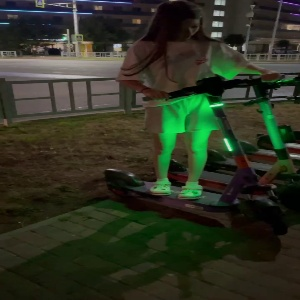human on a scooter: (103, 2, 288, 238)
